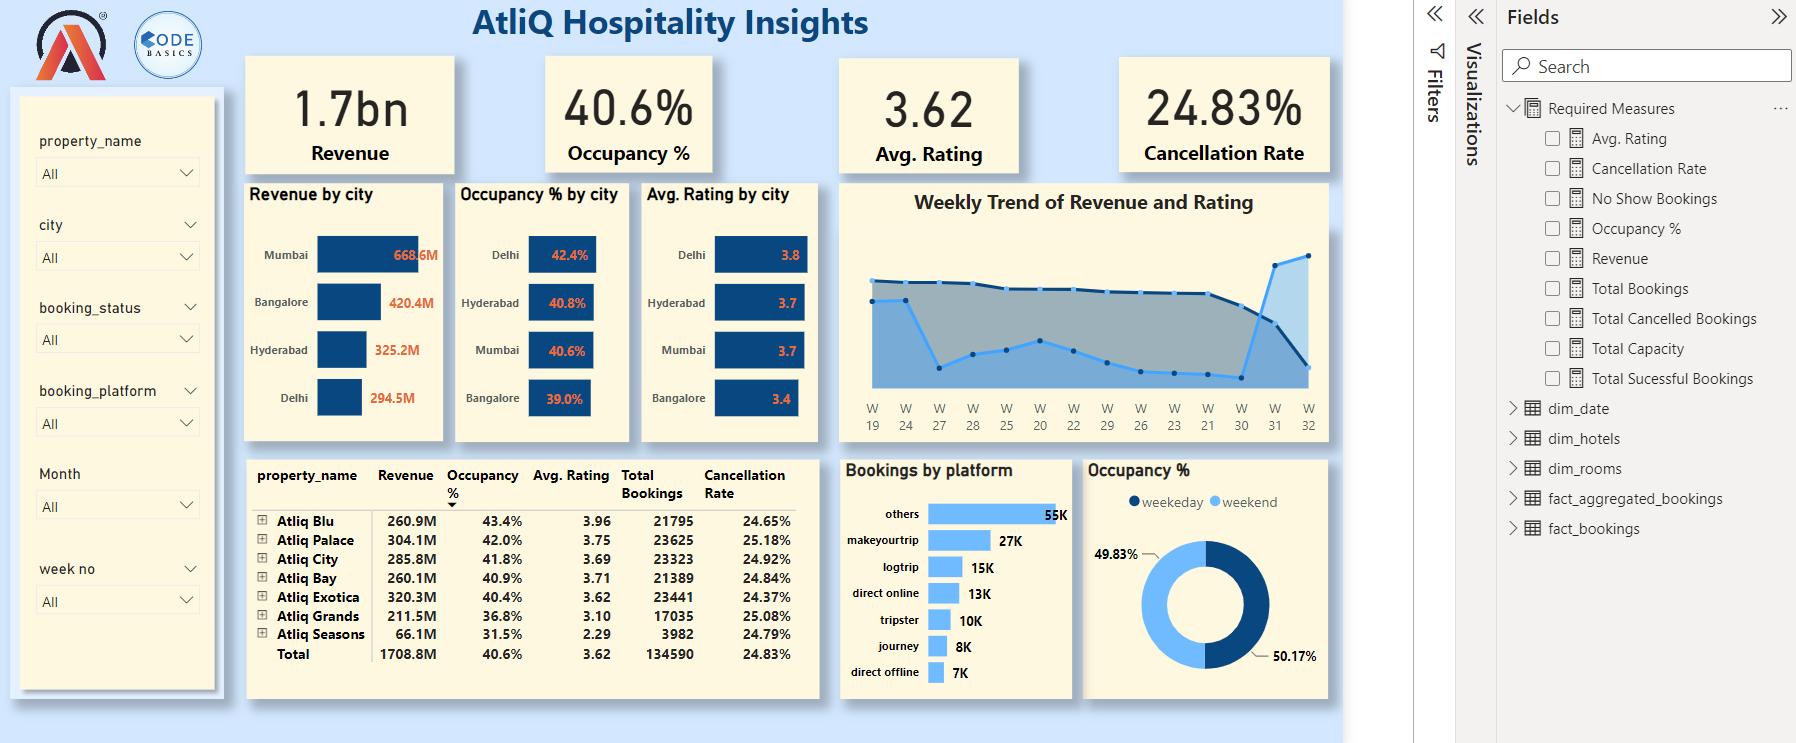

What the dashboard file says about the page in this screenshot:
{"tool":"powerbi","page":{"name":"Page 1","canvas":[1280,720],"ordinal":0},"visuals":[{"type":"card","fields":{"Values":["Required Measures.Revenue"]},"box":[234.8,60.4,199.1,112.6],"z":0},{"type":"image","title":"codebasics","box":[121.4,10.7,79.7,79.7],"z":1000},{"type":"card","fields":{"Values":["Required Measures.Avg. Rating"]},"box":[800,62.6,171.1,109.9],"z":2000},{"type":"card","fields":{"Values":["Required Measures.Occupancy %"]},"box":[520.5,60.4,159.3,111.2],"z":3000},{"type":"barChart","fields":{"Category":["dim_hotels.city"],"Y":["Required Measures.Revenue"]},"box":[233.5,182.7,189.5,245.8],"z":4000},{"type":"barChart","fields":{"Category":["dim_hotels.city"],"Y":["Required Measures.Occupancy %"]},"box":[434.1,182.3,165.6,246.3],"z":5000},{"type":"barChart","fields":{"Category":["dim_hotels.city"],"Y":["Required Measures.Avg. Rating"]},"box":[612.2,182.3,168.3,246.3],"z":6000},{"type":"areaChart","fields":{"Category":["dim_date.week no"],"Y":["Required Measures.Occupancy %"],"Y2":["Required Measures.Avg. Rating"]},"box":[800,224,466.1,204.5],"z":7000},{"type":"donutChart","title":"Occupancy %","fields":{"Category":["dim_date.day_type"],"Y":["Required Measures.Occupancy %"]},"box":[1032.3,445.2,233.7,228.2],"z":8000},{"type":"barChart","title":"Bookings by platform","fields":{"Y":["Required Measures.Total Bookings"],"Category":["fact_bookings.booking_platform"]},"box":[800.7,445,221.1,228],"z":9000},{"type":"pivotTable","fields":{"Rows":["dim_hotels.property_name","dim_hotels.city"],"Values":["Required Measures.Revenue","Required Measures.Occupancy %","Required Measures.Avg. Rating","Required Measures.Total Bookings","Required Measures.Cancellation Rate"]},"box":[235.1,445.2,545.4,228.2],"z":10000},{"type":"image","box":[24.7,11,87.9,79.7],"z":11000},{"type":"card","fields":{"Values":["Required Measures.Cancellation Rate"]},"box":[1065.8,61.8,200.5,109.9],"z":12000},{"type":"textbox","box":[206.2,1.2,866.2,58.8],"z":13000},{"type":"shape","box":[11,90.6,203.3,582.3],"z":14000},{"type":"slicer","fields":{"Values":["dim_hotels.property_name"]},"box":[25,128.5,176.1,64.3],"z":15000},{"type":"slicer","fields":{"Values":["dim_hotels.city"]},"box":[25,207.8,176.1,64.3],"z":16000},{"type":"slicer","fields":{"Values":["fact_bookings.booking_status"]},"box":[25,287,176.1,64.3],"z":17000},{"type":"slicer","fields":{"Values":["fact_bookings.booking_platform"]},"box":[25,366.3,176.1,64.3],"z":18000},{"type":"slicer","fields":{"Values":["dim_date.mmm yy.Variation.Date Hierarchy.Month"]},"box":[25,445.6,176.1,75],"z":19000},{"type":"slicer","fields":{"Values":["dim_date.week no"]},"box":[25,535.5,176.1,75],"z":20000},{"type":"textbox","box":[800,182.3,466.1,41.7],"z":20005}]}

Visuals, with their boxes on the page's 1280x720 design canvas (x1, y1, x2, y2). These are canvas units, not pixel positions in the 1796x743 screenshot, which may show the page scaled, cropped or inside an application window:
card - Required Measures.Revenue: 235:60:434:173
"codebasics" image: 121:11:201:90
card - Required Measures.Avg. Rating: 800:63:971:172
card - Required Measures.Occupancy %: 520:60:680:172
barChart - dim_hotels.city x Required Measures.Revenue: 234:183:423:428
barChart - dim_hotels.city x Required Measures.Occupancy %: 434:182:600:429
barChart - dim_hotels.city x Required Measures.Avg. Rating: 612:182:780:429
areaChart - dim_date.week no x Required Measures.Occupancy %: 800:224:1266:428
"Occupancy %" donutChart: 1032:445:1266:673
"Bookings by platform" barChart: 801:445:1022:673
pivotTable - dim_hotels.property_name x dim_hotels.city: 235:445:780:673
image: 25:11:113:91
card - Required Measures.Cancellation Rate: 1066:62:1266:172
textbox: 206:1:1072:60
shape: 11:91:214:673
slicer - dim_hotels.property_name: 25:128:201:193
slicer - dim_hotels.city: 25:208:201:272
slicer - fact_bookings.booking_status: 25:287:201:351
slicer - fact_bookings.booking_platform: 25:366:201:431
slicer - dim_date.mmm yy.Variation.Date Hierarchy.Month: 25:446:201:521
slicer - dim_date.week no: 25:536:201:610
textbox: 800:182:1266:224
